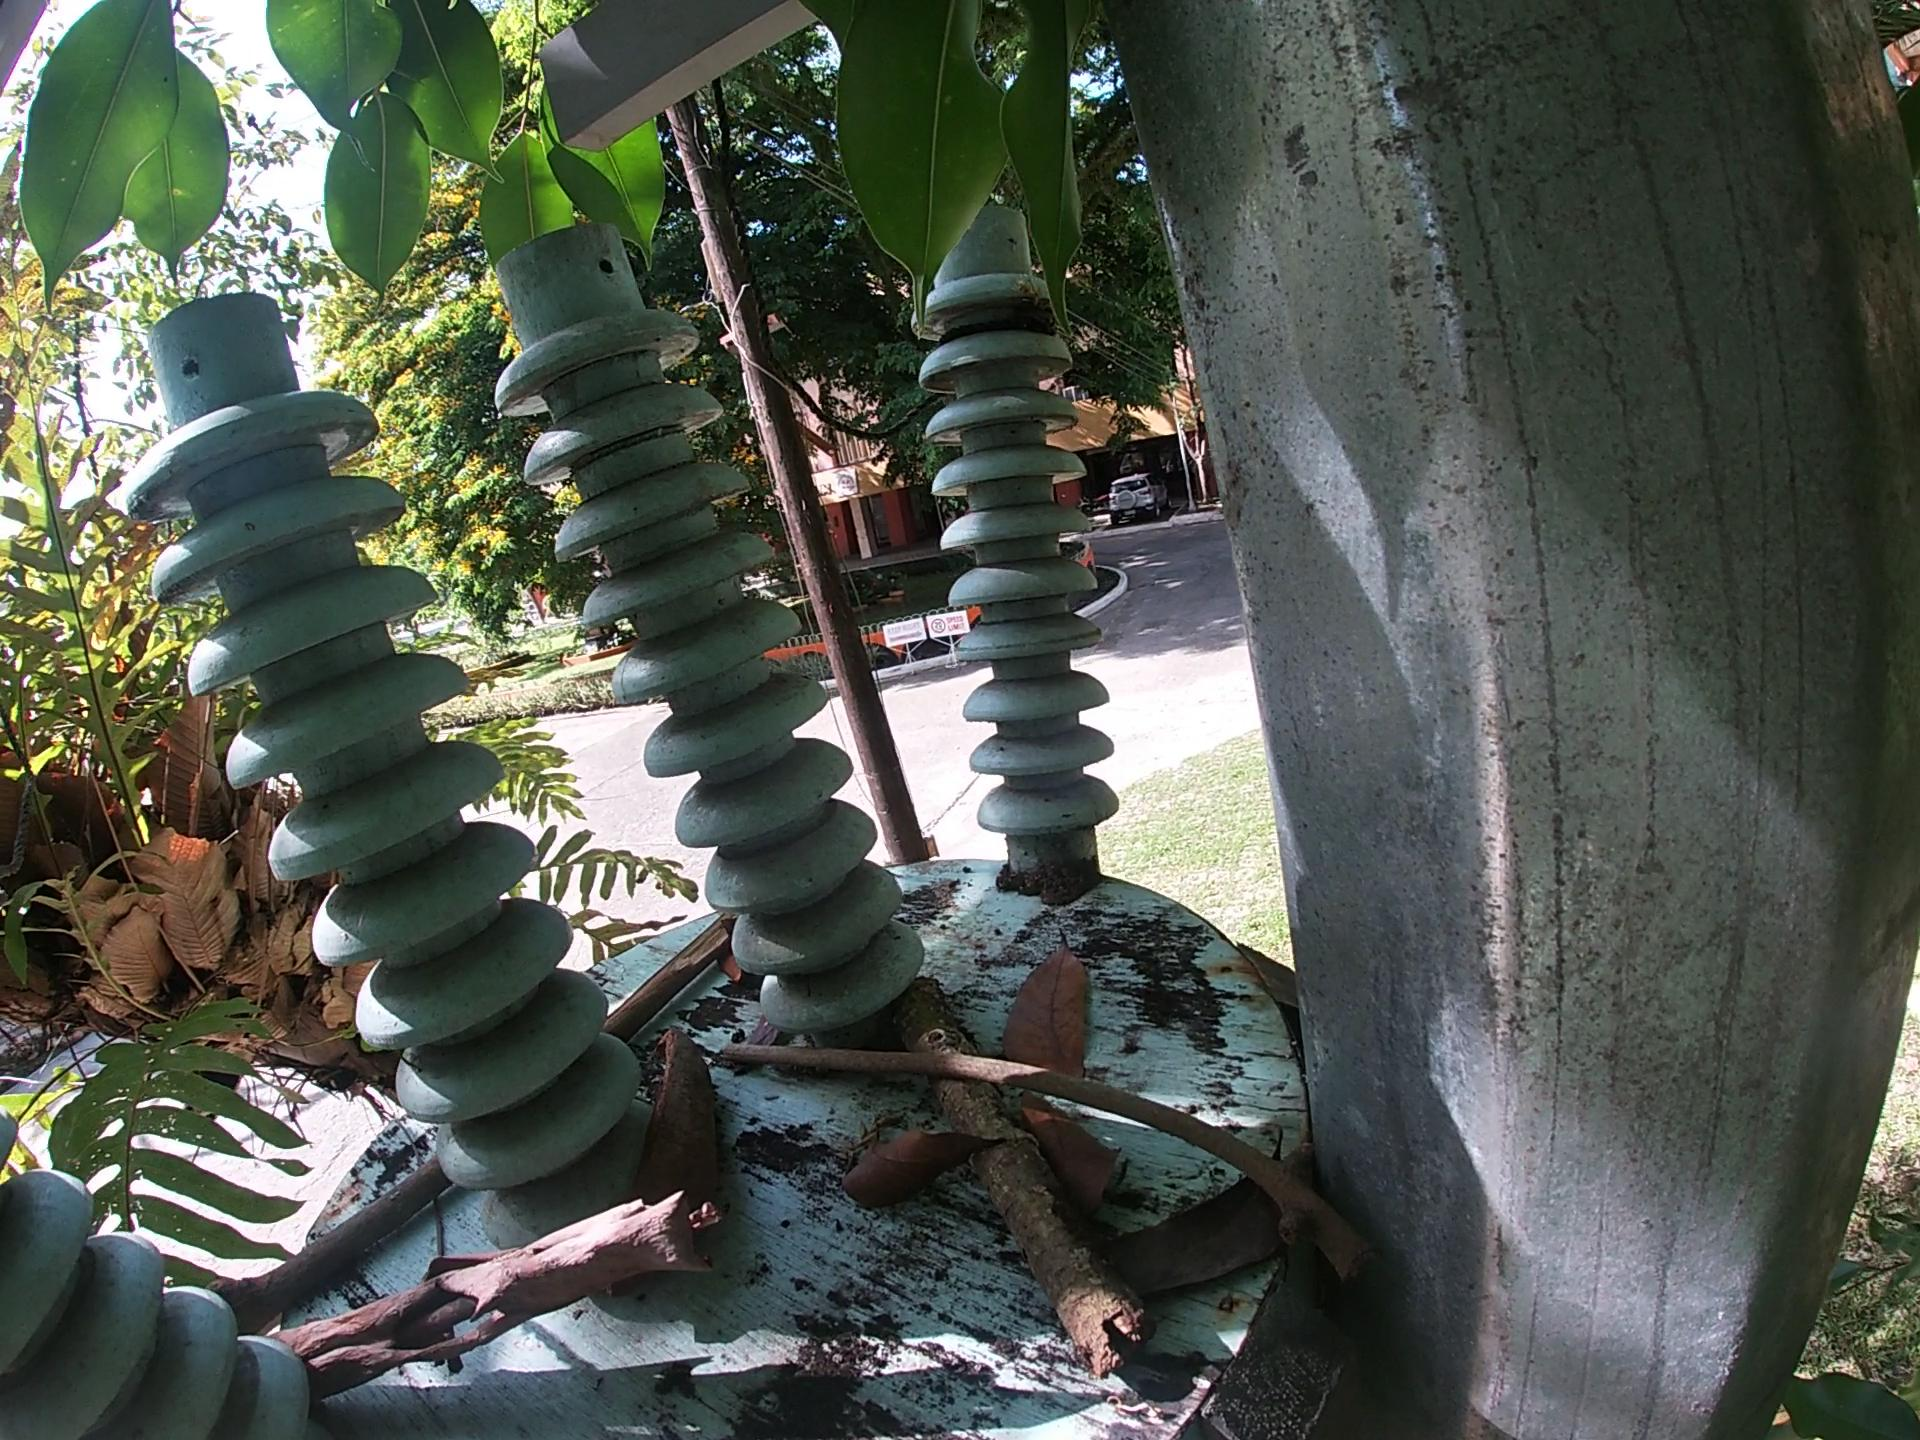leaf: (1092, 1122, 1300, 1301), (838, 1118, 1005, 1218), (1011, 1085, 1126, 1225), (1005, 930, 1095, 1078)
mahogany fruit: (620, 1019, 726, 1209)
tree branch: (718, 1033, 1380, 1292), (887, 965, 1152, 1386), (268, 1181, 729, 1399), (198, 1159, 452, 1333), (600, 912, 745, 1042)
